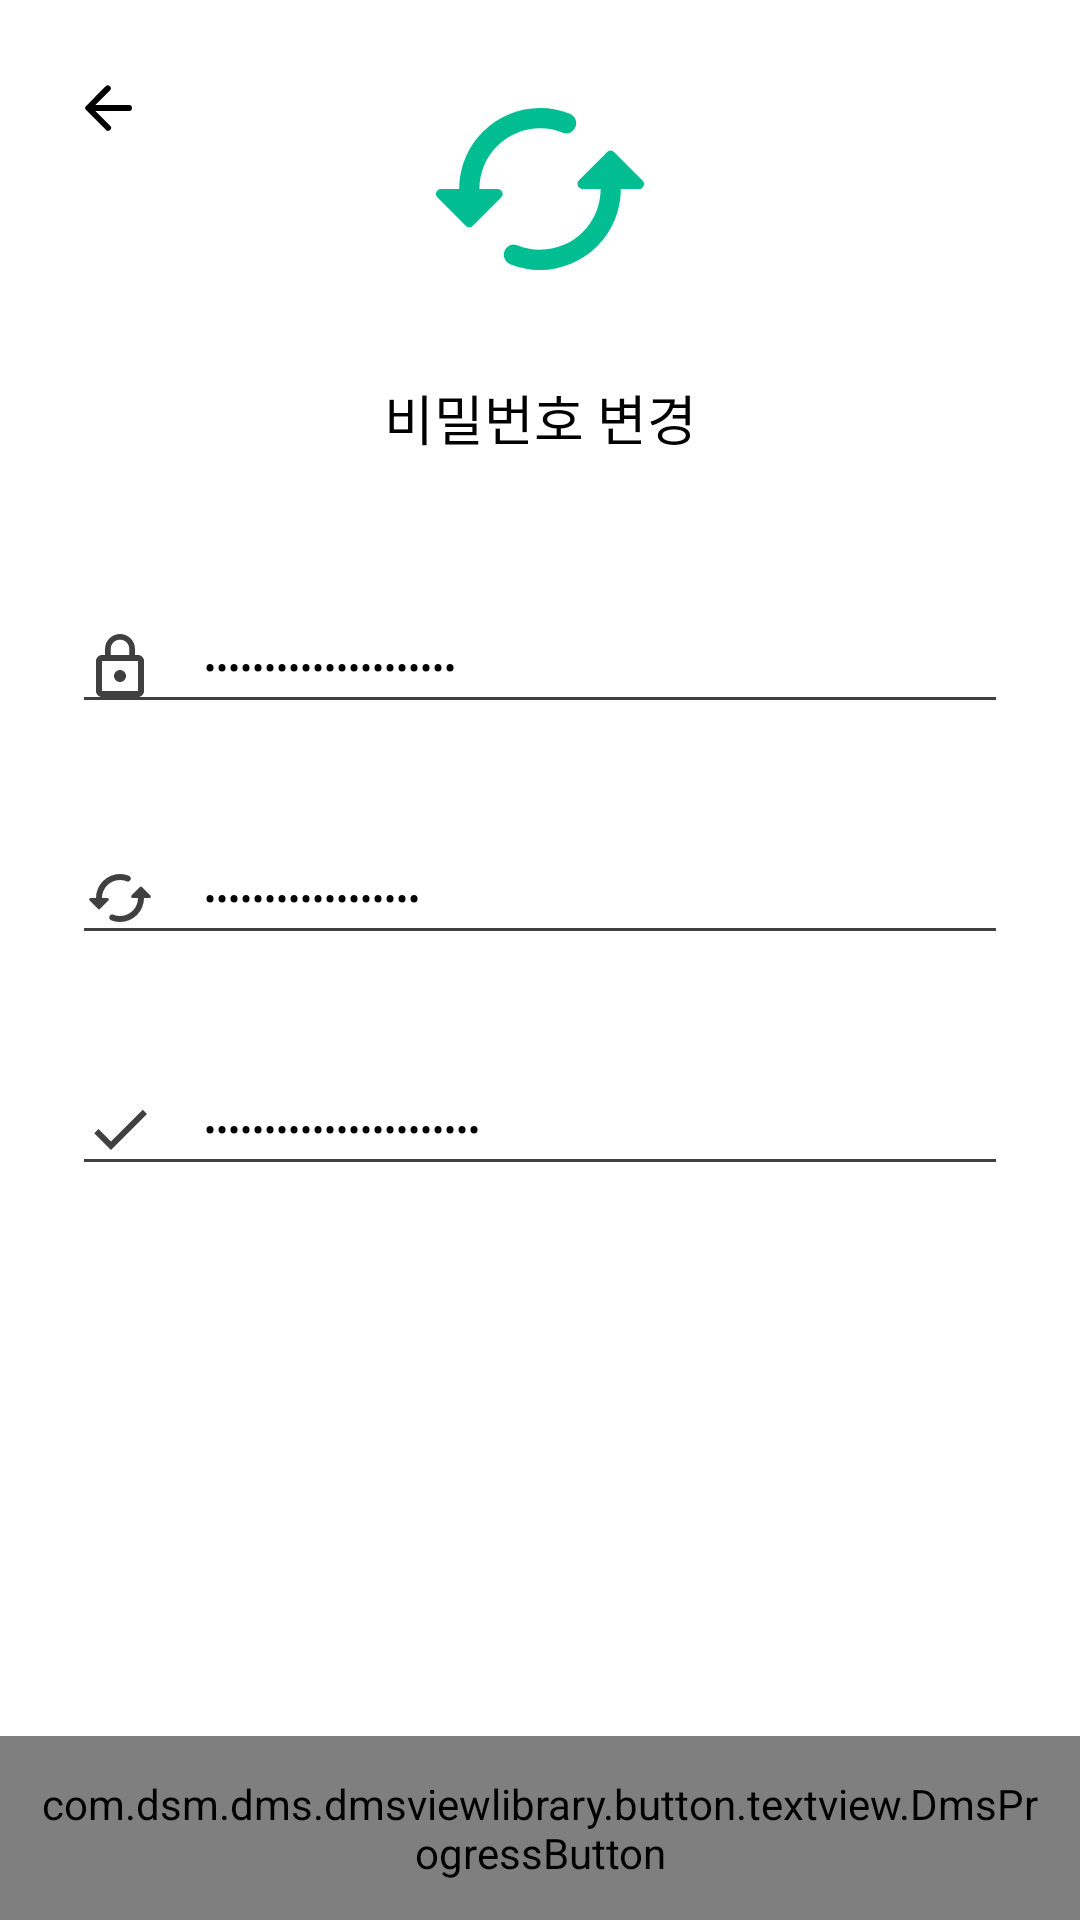

Icons on this 1080w x 1920h Android screen, each with its box as bbox=[x1, y1, x2, y2]:
back: bbox=[85, 85, 132, 131]
change: bbox=[436, 108, 644, 270]
